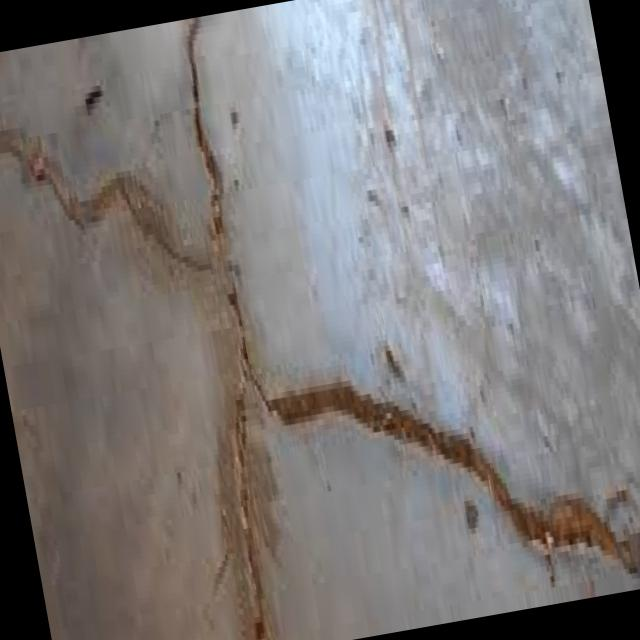crack: (244, 273, 640, 640), (149, 16, 311, 640), (0, 74, 227, 323)
